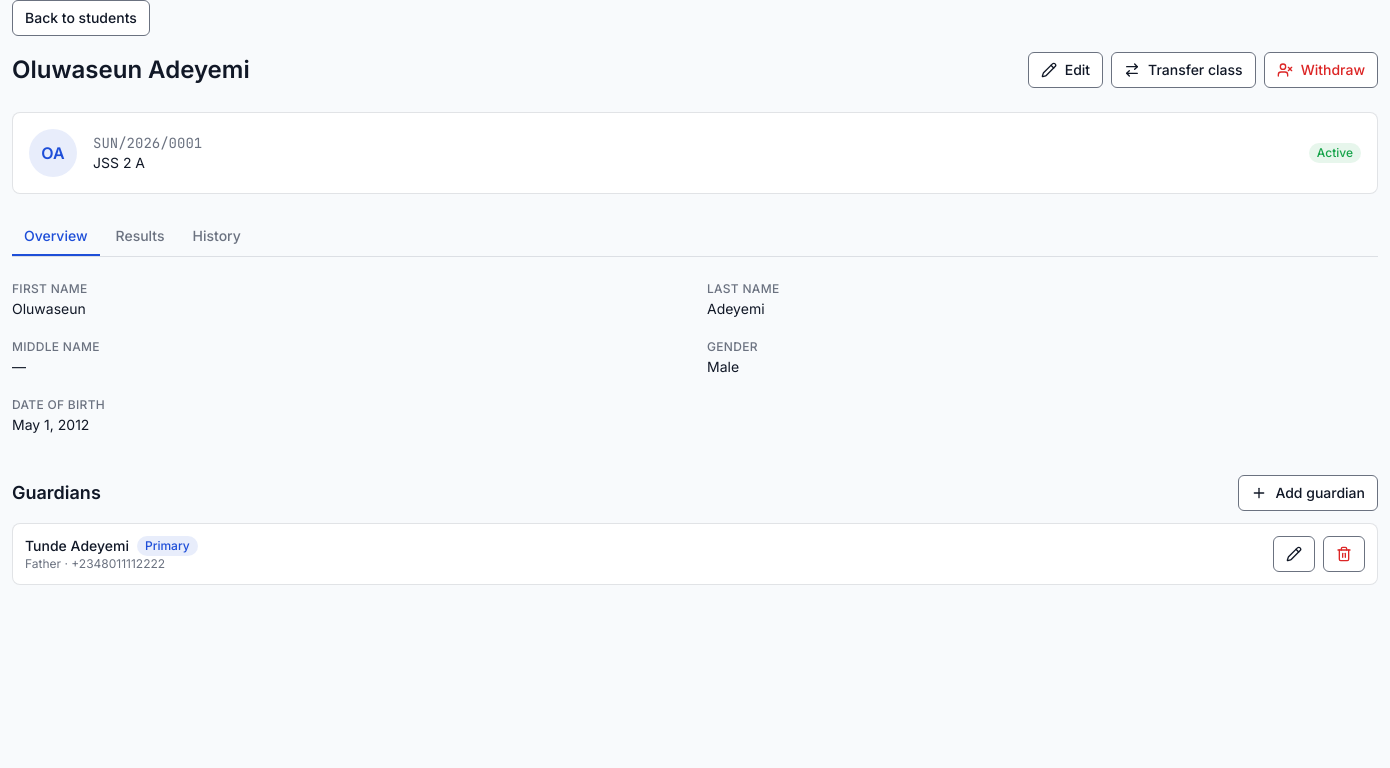
StudentDetailPage — History tab › humanizes actions and shows the withdraw reason
Expected: the heading "Oluwaseun Adeyemi" is shown, [12,54,250,86]
Click the tab "History". click: [217, 237]
box: [180,218,253,256]
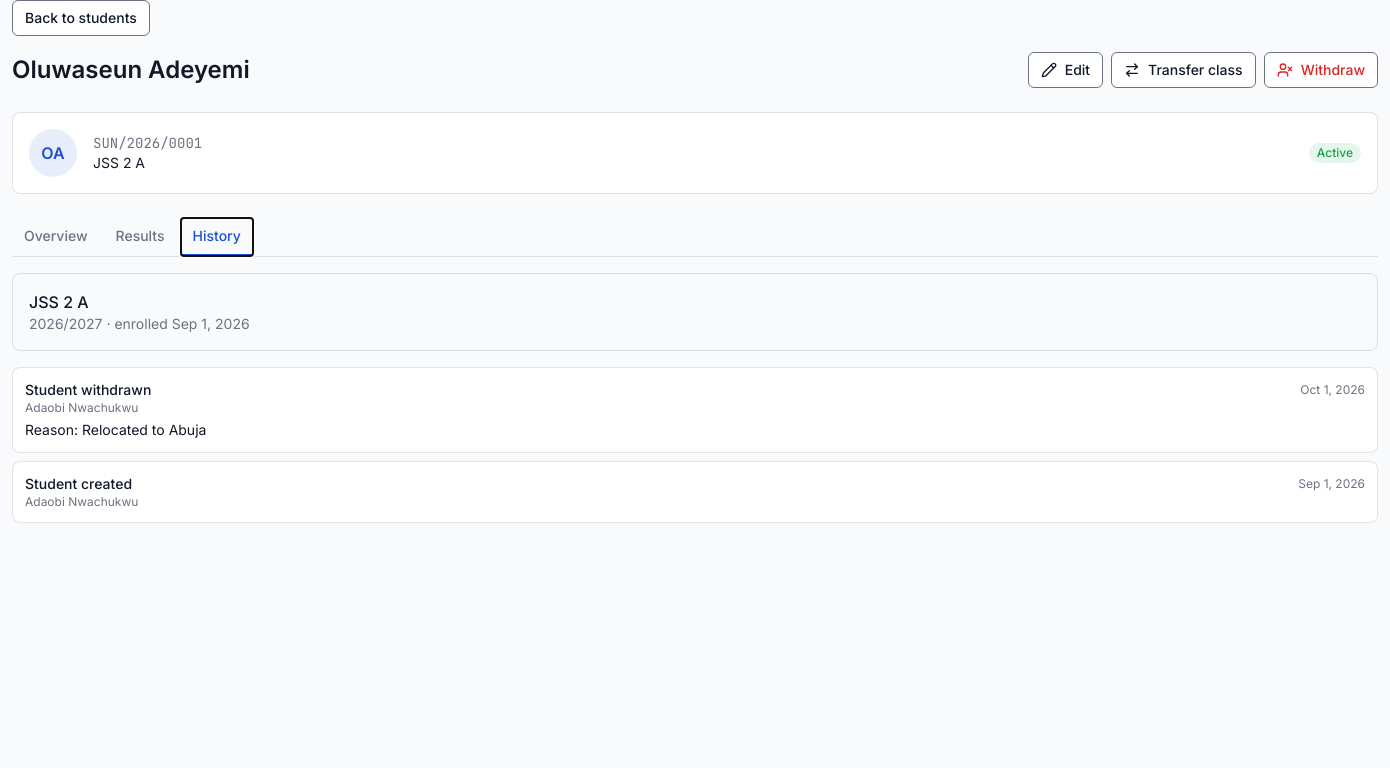
Now the text "Student withdrawn" is shown, box [25,380,151,400]
Now the text "Reason: Relocated to Abuja" is shown, box [25,421,206,438]
Now the text "Student created" is shown, box [25,474,132,494]
